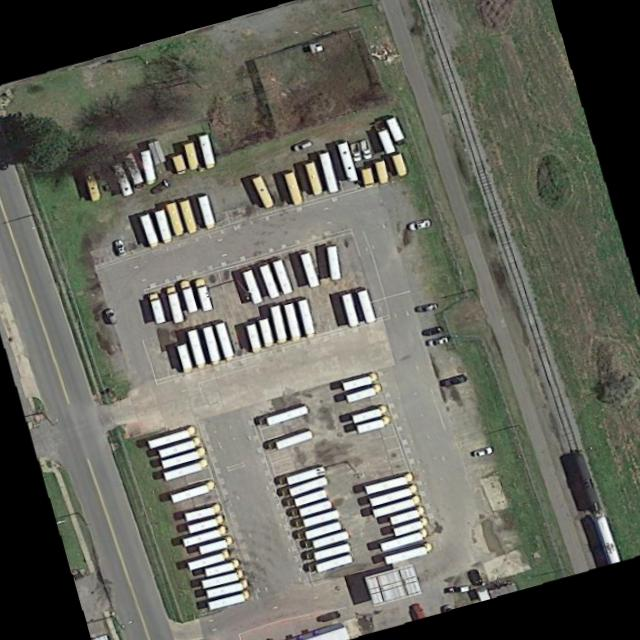large-vehicle: (302, 539, 352, 565), (292, 519, 342, 544), (378, 528, 430, 552), (147, 426, 198, 450), (276, 465, 327, 488), (279, 476, 330, 499), (256, 406, 309, 428), (382, 544, 434, 566), (372, 495, 421, 518), (367, 486, 418, 508), (302, 528, 350, 551), (162, 459, 210, 482), (169, 481, 217, 504), (293, 508, 340, 531), (264, 430, 313, 452), (363, 474, 414, 495), (157, 437, 202, 459), (288, 499, 334, 520), (307, 553, 353, 574), (182, 527, 228, 548), (285, 488, 329, 509), (187, 550, 231, 571), (161, 448, 207, 468), (336, 142, 358, 183), (318, 152, 339, 194), (213, 321, 235, 361), (207, 591, 250, 611), (184, 329, 206, 368), (110, 162, 135, 196), (251, 175, 274, 210), (272, 258, 293, 296), (205, 581, 249, 599), (138, 213, 160, 249), (344, 383, 383, 403), (187, 514, 226, 534), (80, 167, 101, 204), (258, 263, 279, 300), (201, 326, 220, 366), (183, 503, 223, 522), (242, 269, 263, 305), (200, 572, 244, 589), (165, 285, 184, 324), (351, 405, 388, 425), (297, 298, 315, 339), (122, 153, 143, 188), (388, 506, 426, 525), (284, 302, 302, 342), (299, 253, 319, 288), (178, 279, 197, 315), (193, 276, 212, 312), (165, 200, 184, 236), (304, 162, 324, 196), (385, 116, 406, 148), (198, 537, 235, 555), (153, 209, 172, 244), (341, 374, 377, 392), (270, 305, 287, 343), (357, 290, 376, 324), (197, 194, 215, 229), (178, 199, 196, 234), (197, 135, 215, 170), (204, 560, 241, 577), (392, 519, 429, 536), (147, 292, 166, 325), (283, 172, 302, 205), (356, 416, 391, 433), (176, 343, 195, 374), (342, 293, 359, 327), (139, 149, 155, 184), (245, 323, 263, 353), (325, 245, 340, 281), (258, 319, 275, 346), (184, 141, 199, 171), (391, 153, 407, 177), (171, 153, 187, 175), (376, 160, 388, 184), (361, 167, 374, 189)
small-vehicle: (439, 372, 468, 390), (423, 334, 450, 349), (465, 568, 483, 590), (406, 216, 430, 232), (469, 444, 493, 460), (314, 610, 341, 624), (347, 140, 363, 163), (110, 238, 128, 258), (149, 178, 169, 196), (291, 138, 313, 154), (413, 301, 438, 315), (358, 138, 373, 161), (102, 308, 118, 326), (420, 326, 443, 338)
